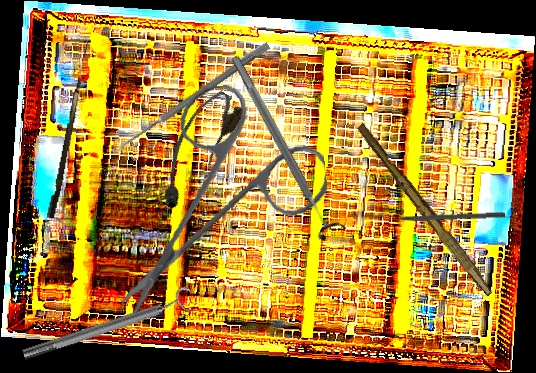Cannula: (143, 84, 249, 215)
Fixation Ring: (221, 49, 348, 244), (18, 284, 198, 368)
Hook Surgical: (46, 37, 90, 220)
Iris Scissors: (100, 75, 339, 315)
Pusher: (380, 210, 506, 223)
Scalpel Handle: (352, 122, 499, 297)
Surgical Spoon: (110, 40, 271, 157)
